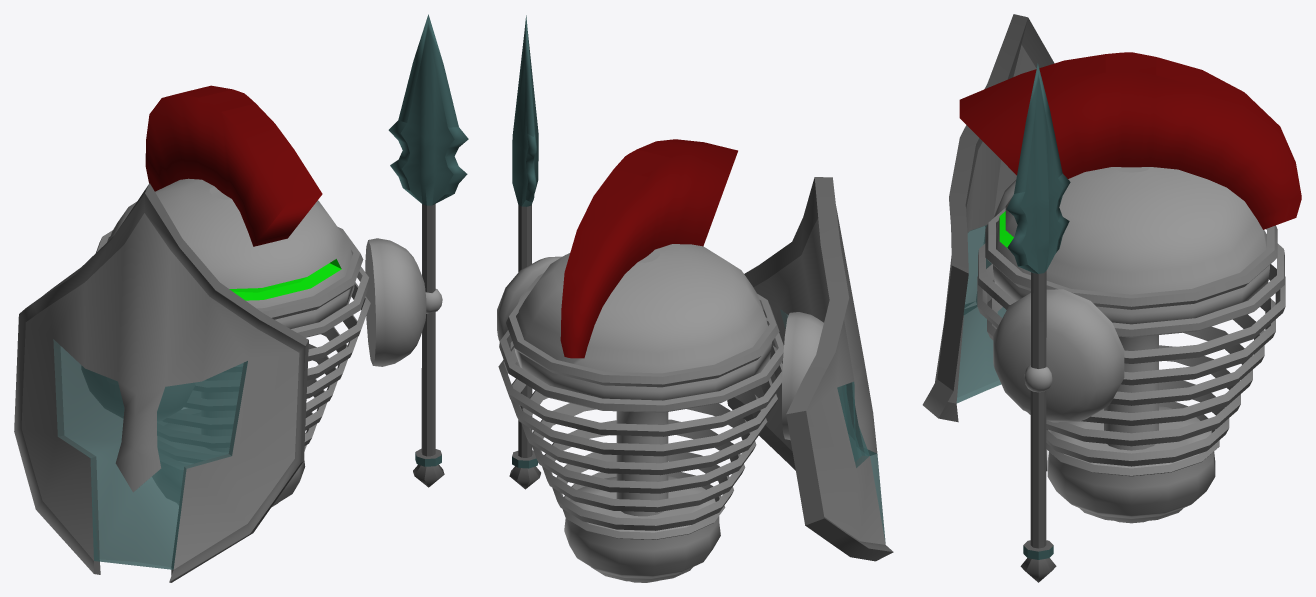
File: Enemigo2.fbx
3 views of the same model, side by side, from view 1: azimuth 30°, elevation 25°; view 2: azimuth 150°, elevation 25°; view 3: azimuth 270°, elevation 25° (orthographic). The views are drawn at different scales.
Visible parts, largest first — view 1: pCube3, pCube9, polySurface1; view 2: pCube9, pCube3, polySurface1; view 3: pCube9, pCube3, polySurface1.
Part boxes in pixels (<box>): pCube3: <box>14,183,308,582</box>; pCube9: <box>82,85,426,507</box>; polySurface1: <box>388,14,468,487</box>; pCube9: <box>497,139,841,582</box>; pCube3: <box>727,177,893,561</box>; polySurface1: <box>509,15,540,489</box>; pCube9: <box>959,52,1301,523</box>; pCube3: <box>922,14,1054,422</box>; polySurface1: <box>1006,63,1070,582</box>.
Bounding box in the file's own units: 14.63 × 17.48 × 11.15.
